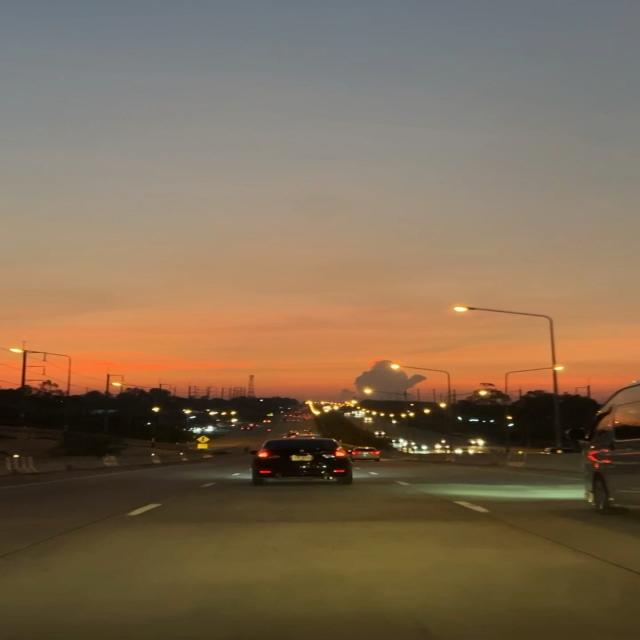Poth-hole: (34, 470, 640, 611)
